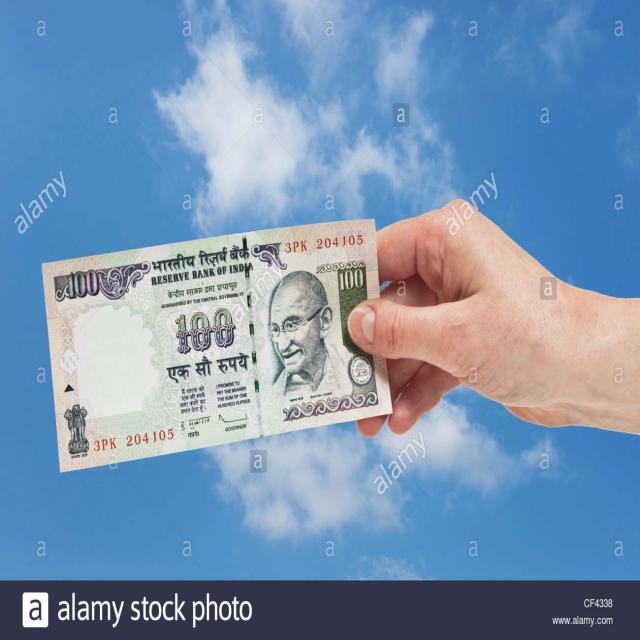100IndianRupees: (41, 221, 382, 474)
